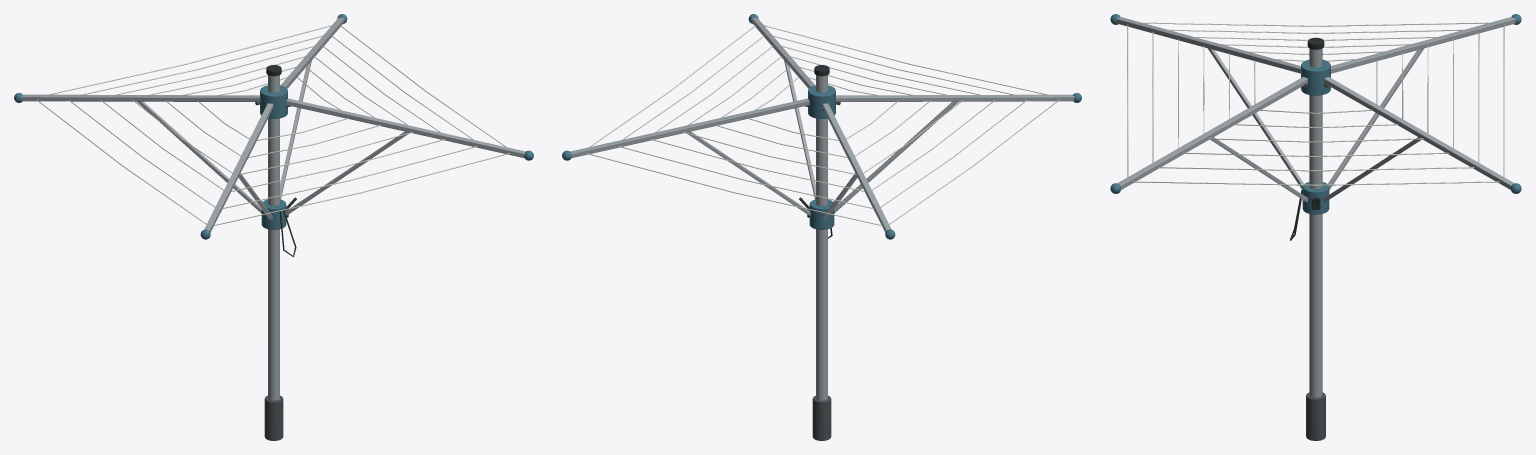
Rendered from city-rotary-clothesline.glb.
The picture shows the model from 3 angles, left to right: view 1: azimuth 30°, elevation 25°; view 2: azimuth 150°, elevation 25°; view 3: azimuth 270°, elevation 25°; orthographic projection. The views are drawn at different scales.
Parts seen in each view (by area): view 1: Assembly | Zinc plated steel, Assembly | Off-white polymer clothesline, Assembly | Service blue enamel, Assembly | Rough cast iron; view 2: Assembly | Zinc plated steel, Assembly | Off-white polymer clothesline, Assembly | Service blue enamel, Assembly | Rough cast iron; view 3: Assembly | Zinc plated steel, Assembly | Off-white polymer clothesline, Assembly | Service blue enamel, Assembly | Rough cast iron, Assembly | Graphite machine powder coat.
Part boxes in pixels (x1,y1,x2,y2): Assembly | Zinc plated steel: (21, 17, 525, 400); Assembly | Off-white polymer clothesline: (36, 25, 510, 225); Assembly | Service blue enamel: (14, 14, 533, 239); Assembly | Rough cast iron: (255, 101, 290, 440); Assembly | Zinc plated steel: (570, 17, 1074, 400); Assembly | Off-white polymer clothesline: (585, 25, 1059, 225); Assembly | Service blue enamel: (562, 14, 1081, 239); Assembly | Rough cast iron: (805, 101, 840, 440); Assembly | Zinc plated steel: (1116, 17, 1515, 397); Assembly | Off-white polymer clothesline: (1127, 22, 1504, 185); Assembly | Service blue enamel: (1110, 14, 1521, 214); Assembly | Rough cast iron: (1303, 83, 1328, 440); Assembly | Graphite machine powder coat: (1290, 37, 1324, 240).
Size of the model in its own units: 1.95 by 2.07 by 1.95.
